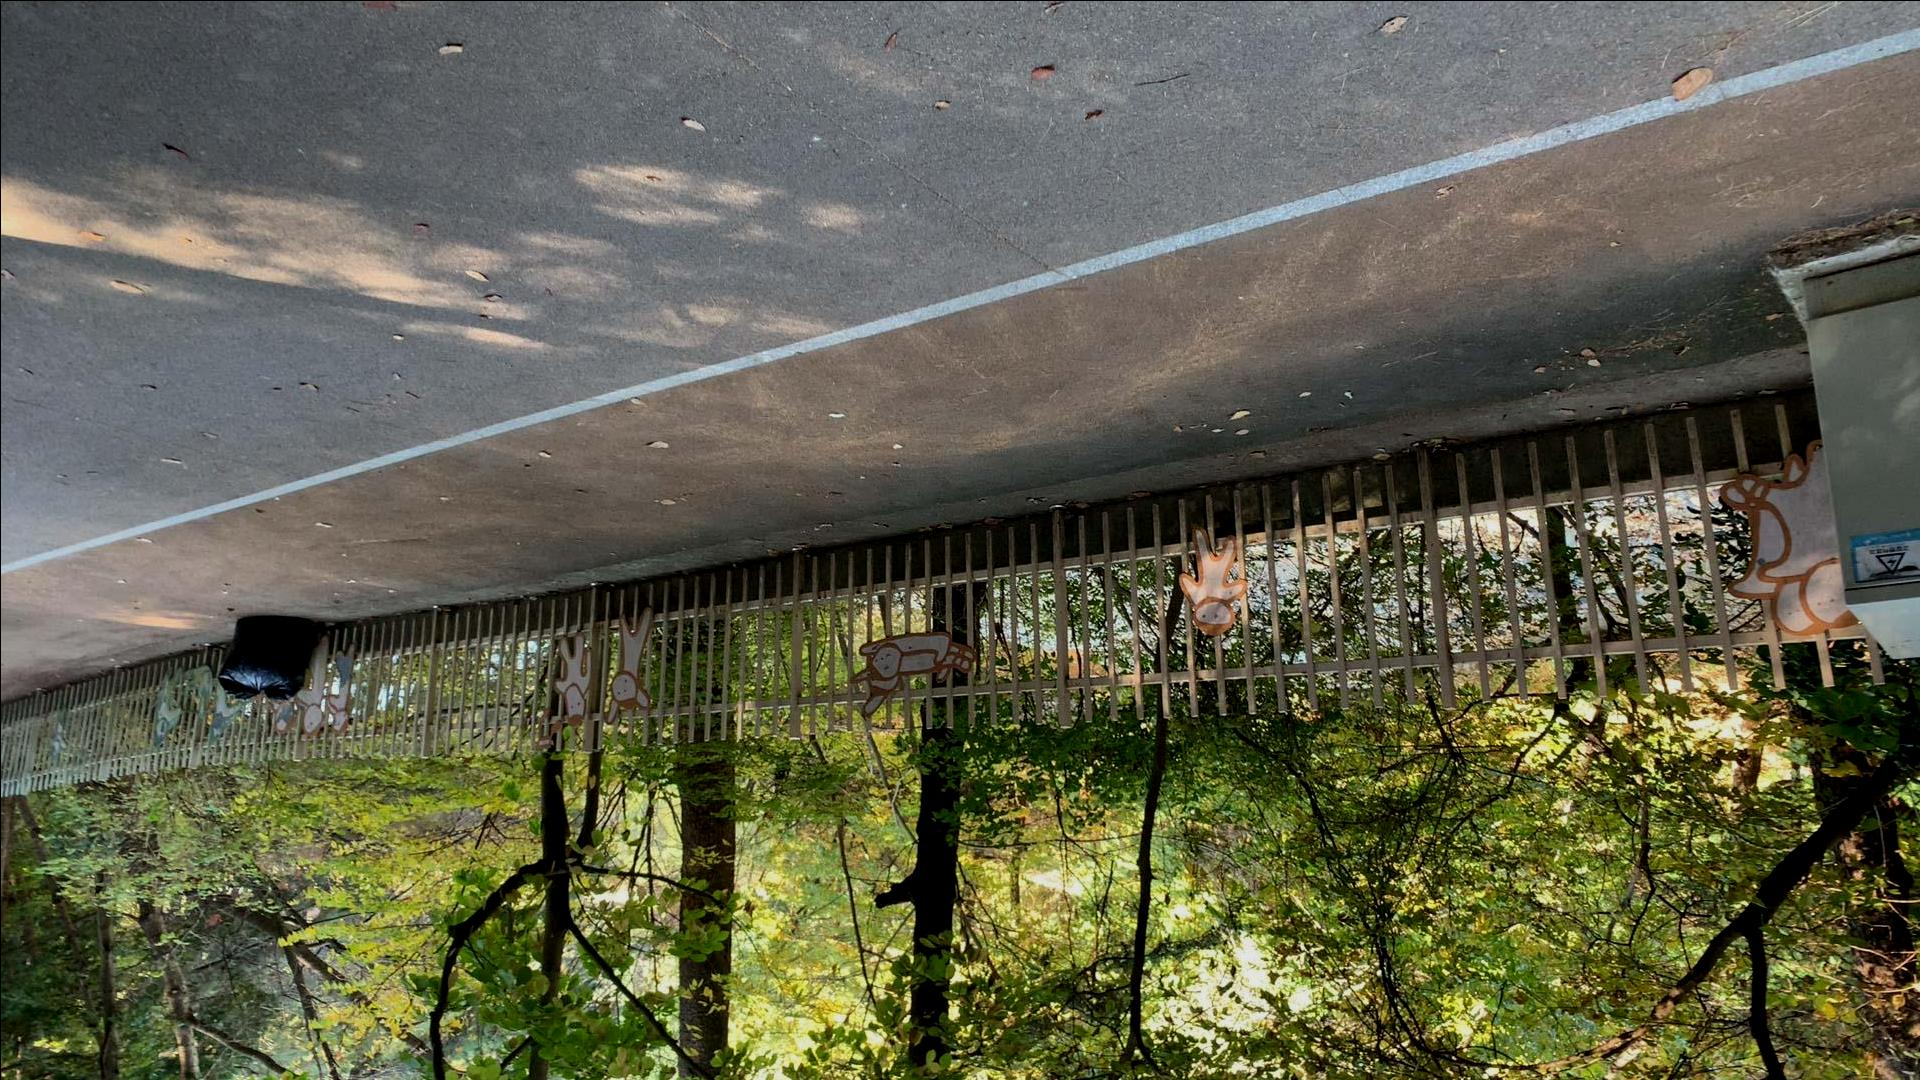black_bag: (216, 611, 319, 707)
